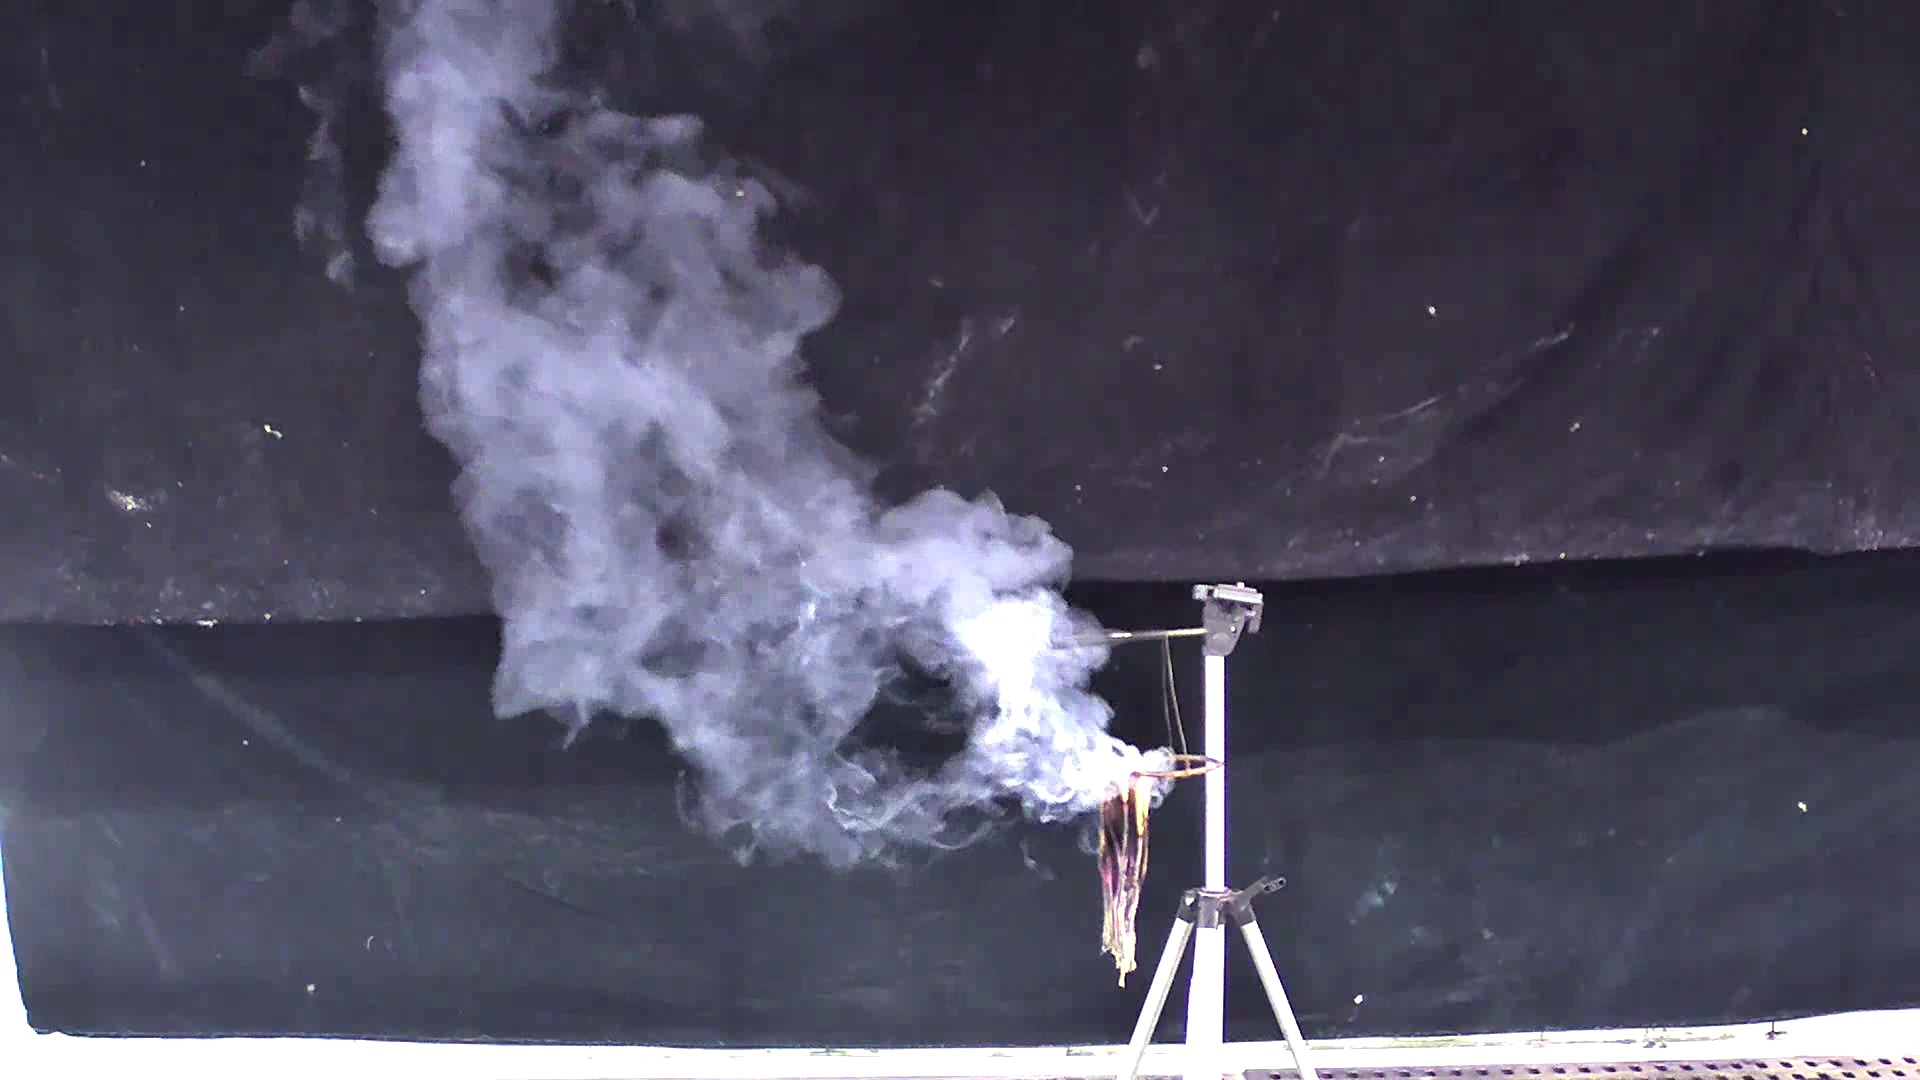smoke: (301, 24, 1175, 870)
